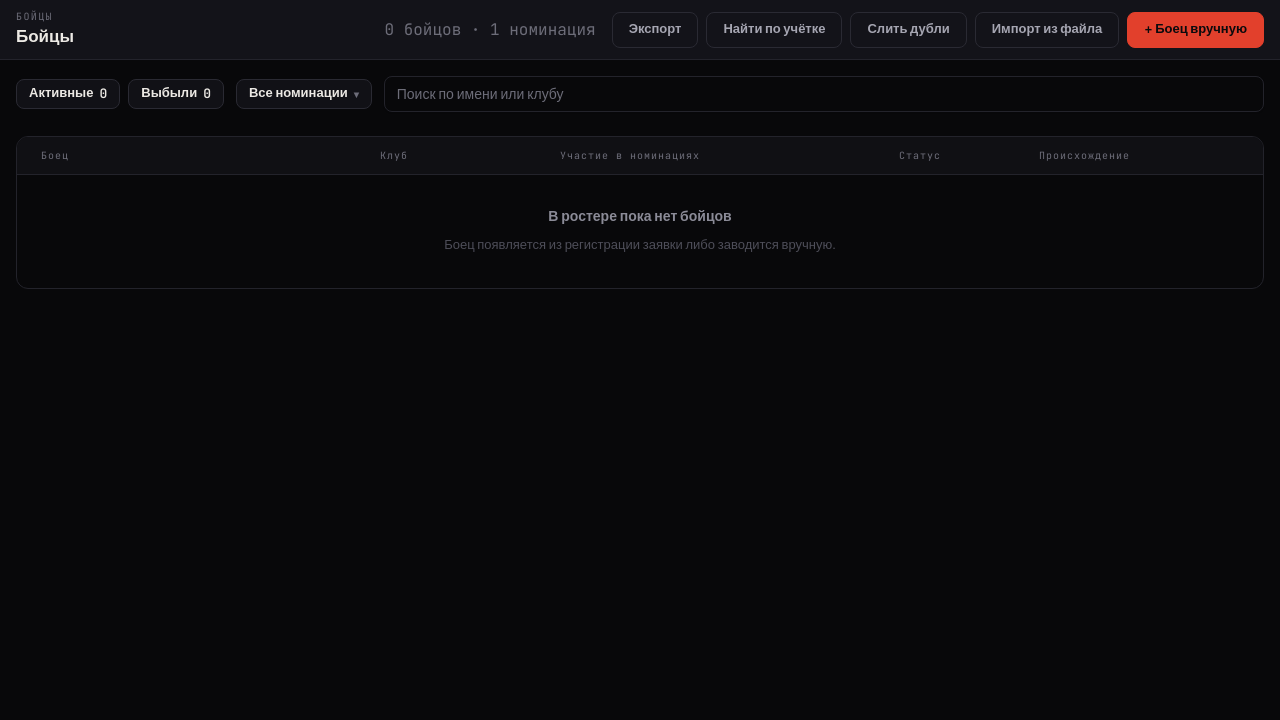
Test: FightersScreen › opens the file-import dialog from the section header (spec 0049, FR-1/FR-2)
This screenshot has width=1280, height=720.
Click the button "Импорт из файла" at (1047, 30), box [975,12,1119,48]
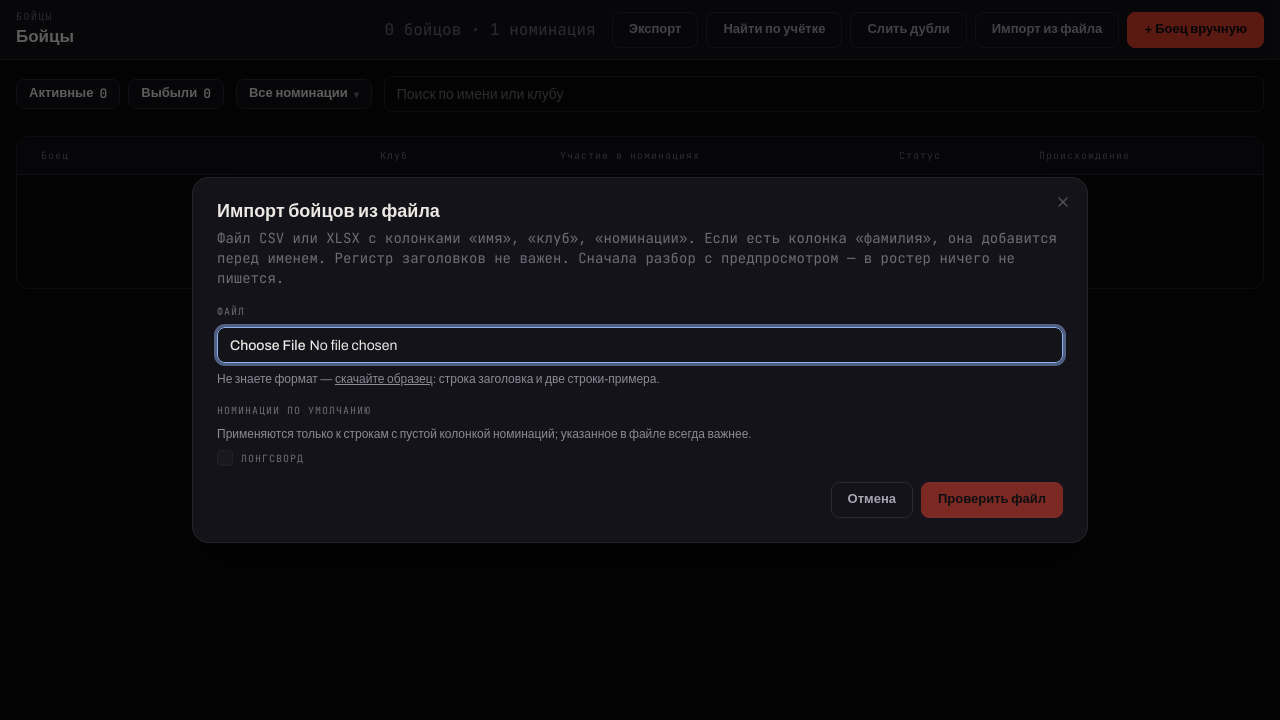
Expected: the dialog "Импорт бойцов из файла" is shown, [192,177,1088,543]
